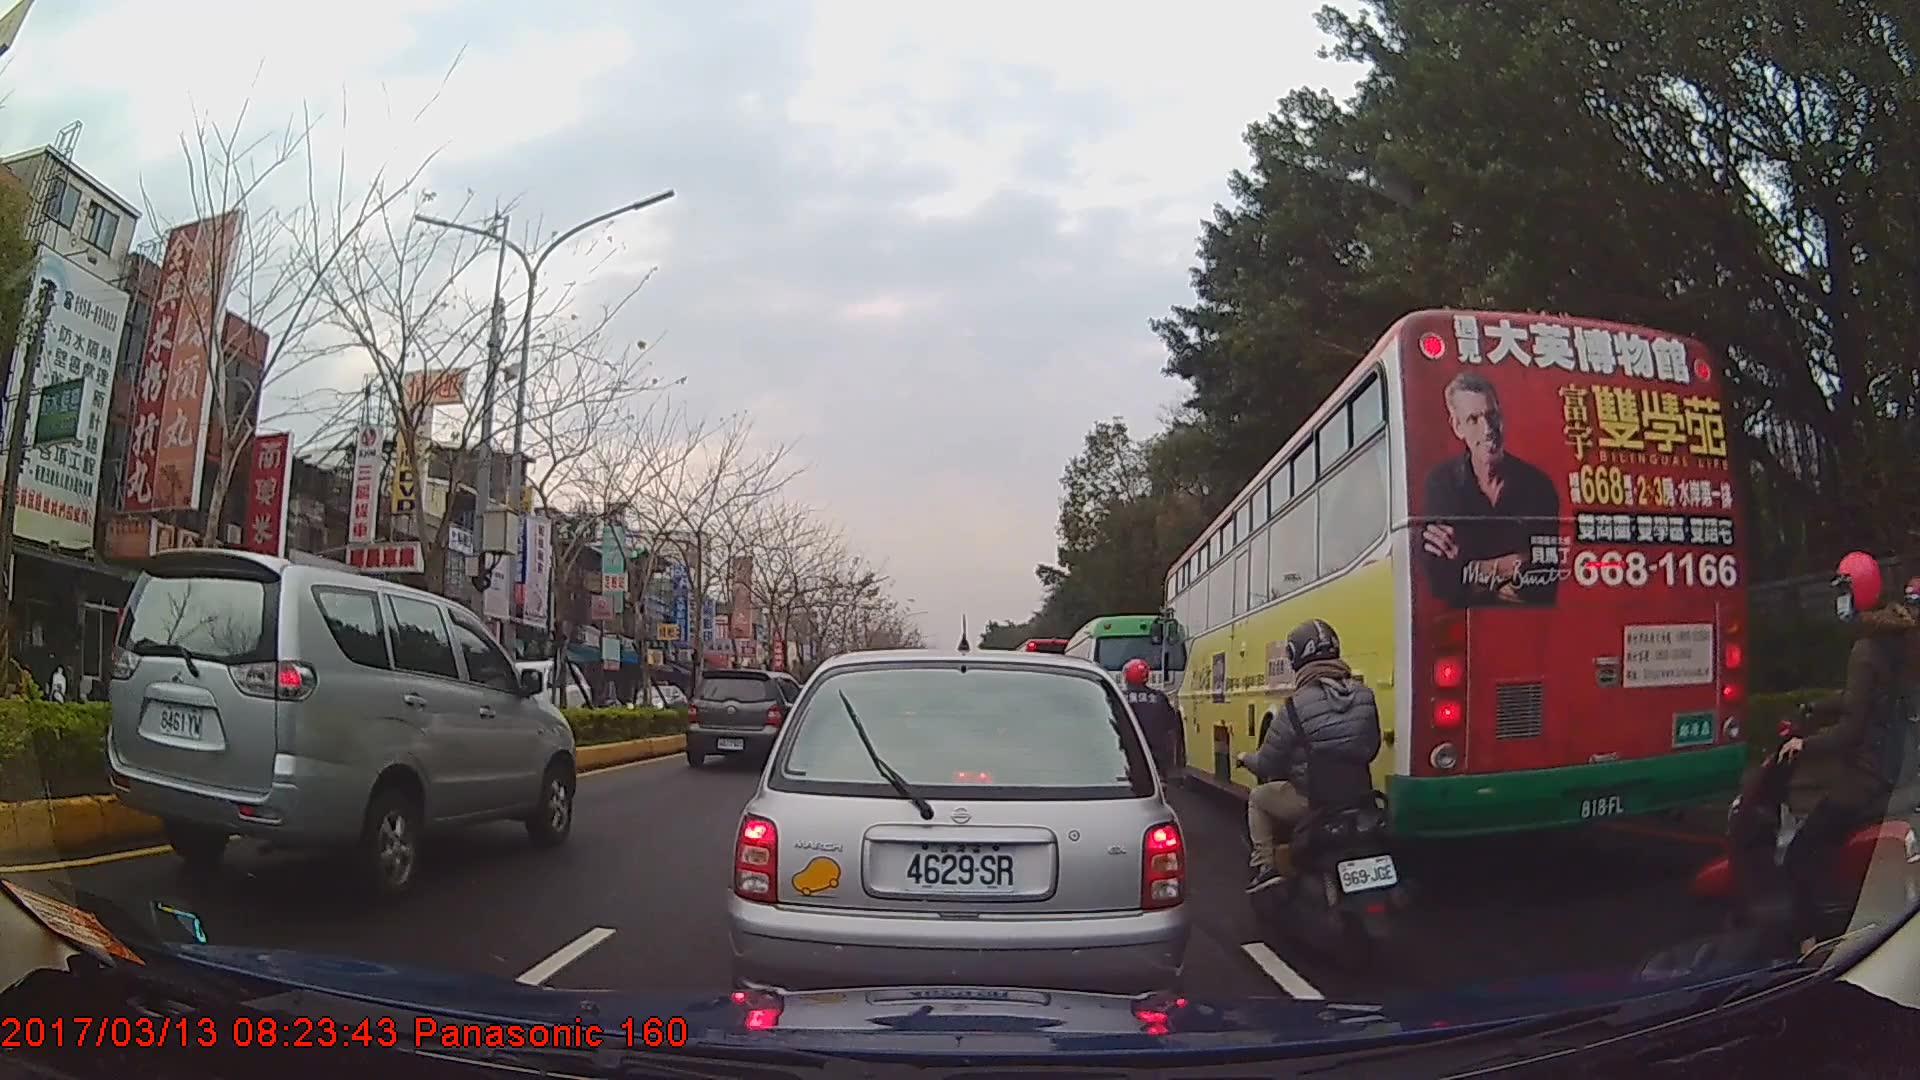rider: (1685, 556, 1911, 972), (1240, 613, 1398, 968), (1105, 657, 1179, 807)
vehicle: (1160, 304, 1750, 853), (729, 645, 1187, 1021), (101, 547, 574, 897), (1063, 613, 1194, 766), (684, 670, 804, 771), (460, 657, 592, 740), (623, 681, 685, 723)
